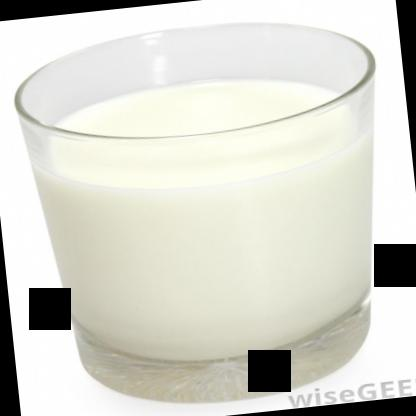milk: (4, 9, 404, 415)
